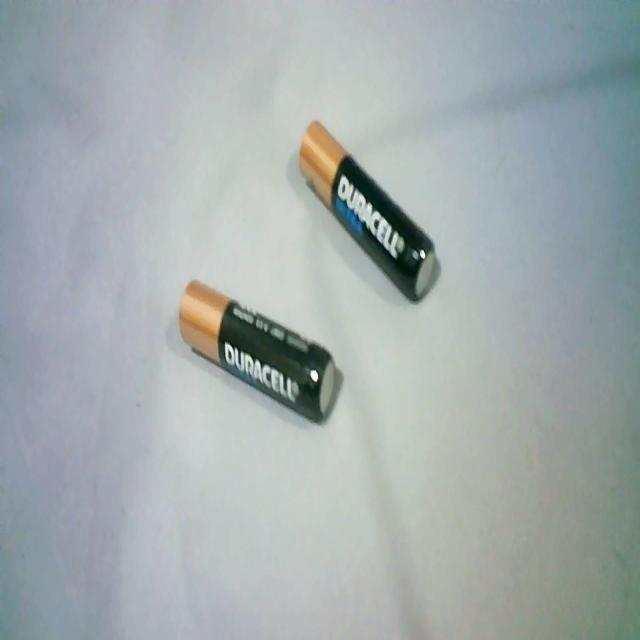AAA: (294, 110, 441, 303), (171, 270, 340, 427)
